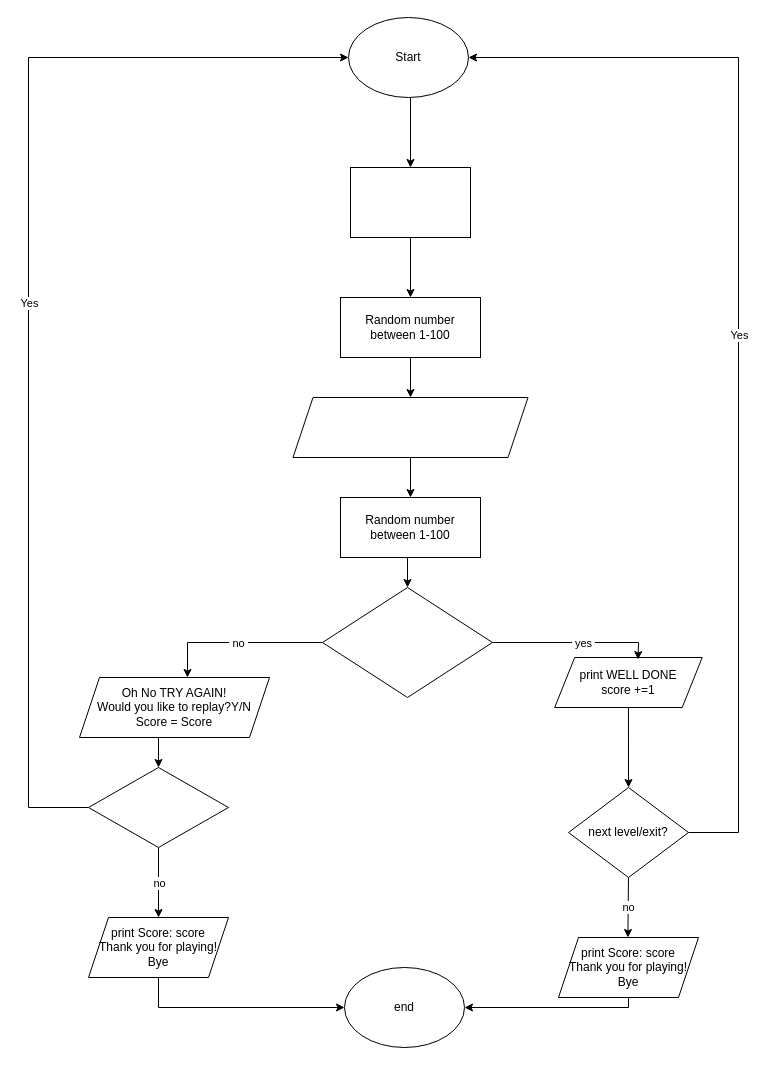
Image size: 768x1065. Some labels were removed from this diagram. The centre of each missing label's shape, as x and y in pixels:
"for loop the whole game. show level number and total score." goes at point (410, 202).
"Guesses correct" goes at point (407, 642).
"Replay? (or exit)" goes at point (158, 807).
"User Input guess - (Next number is higher or lower?)" goes at point (410, 427).
